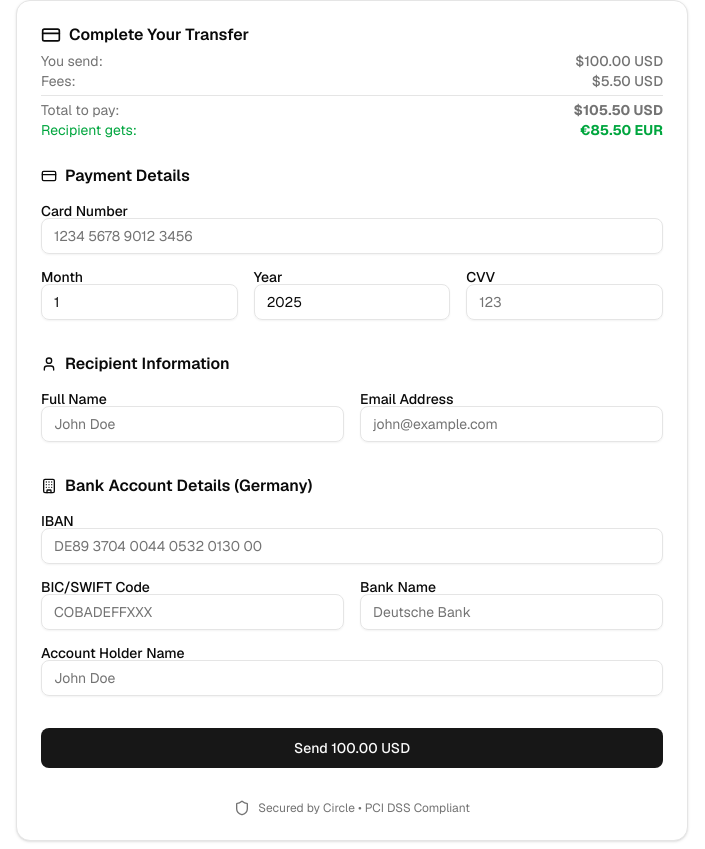
Test: PaymentForm › clears validation errors when user starts typing
Trigger validation errors
Step 1. Click the button "Send 100.00 USD" → (352, 748), box [41,728,663,768]
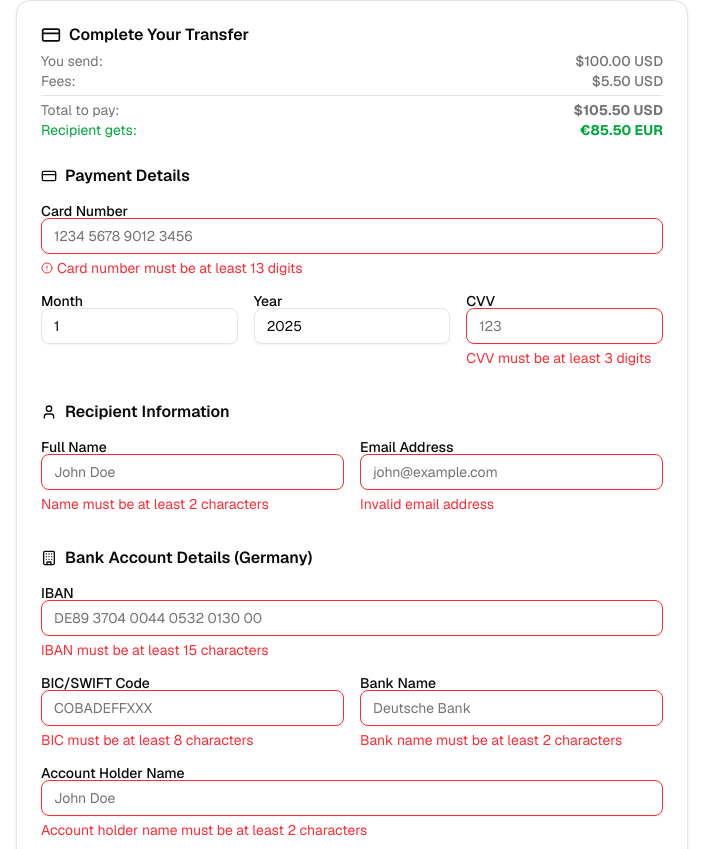
Result: the text "Card number must be at least 13 digits" is shown at [41,259,303,277]
Start typing in card number field
Step 2. Type "1234567890123456" into the field labelled "Card Number" → (352, 236), box [41,218,663,254]
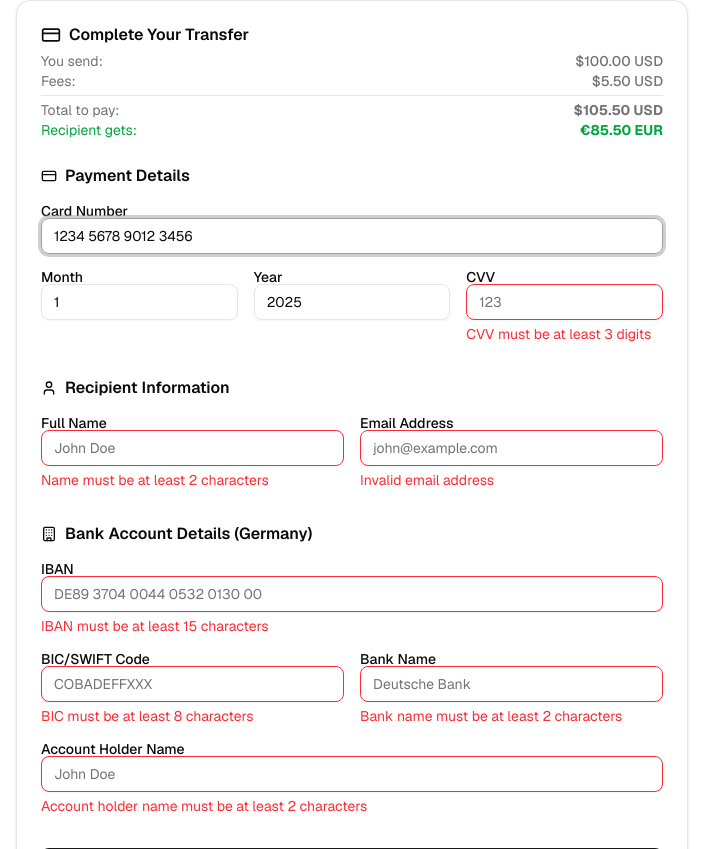
Result: the text "Card number must be at least 13 digits" is gone
